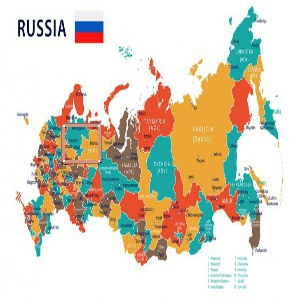square: (59, 122, 104, 165)
